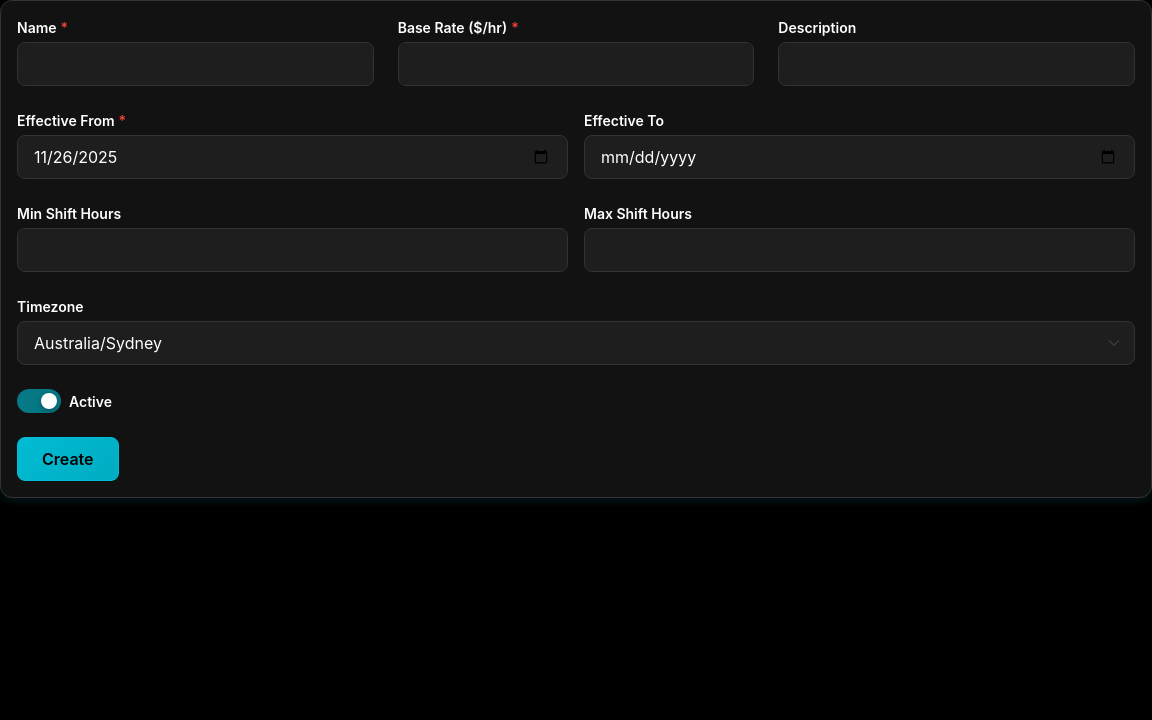
Test case: PayGuideForm › submits creation payload and surfaces success messaging
Type "New Guide" into the field labelled "Name*" at {"x": 195, "y": 64}, box [17,42,374,86]
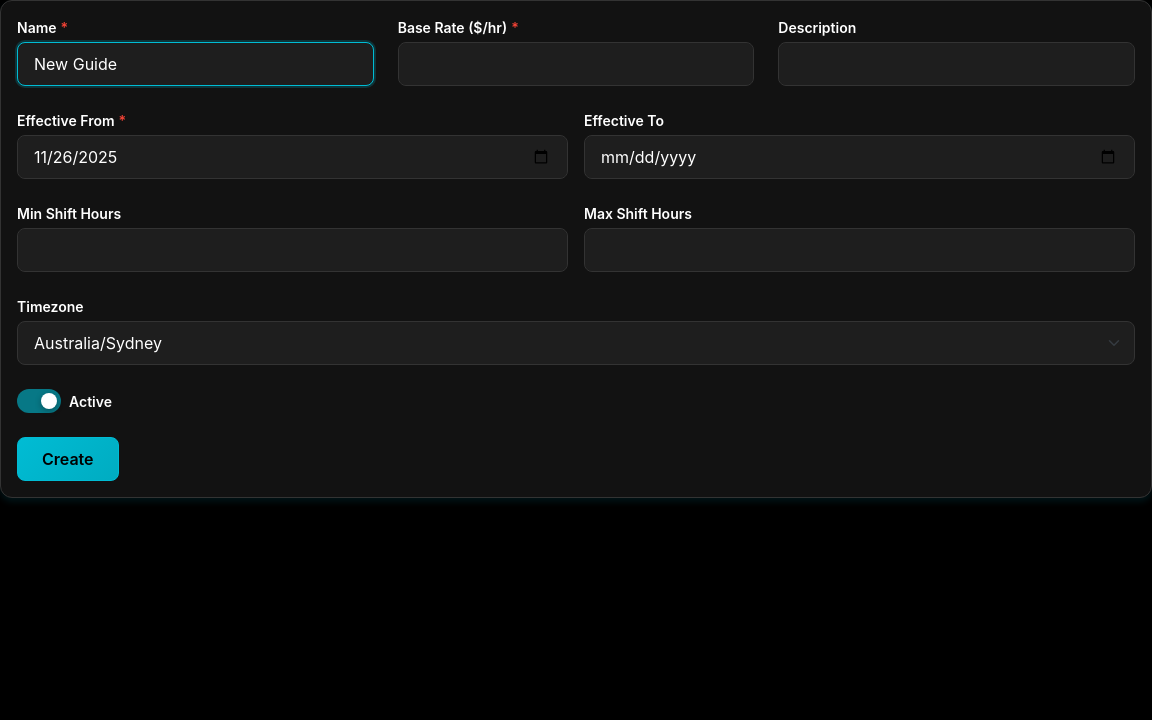
Type "31" into the number field labelled "Base Rate ($/hr)*" at {"x": 576, "y": 64}, box [398,42,754,86]
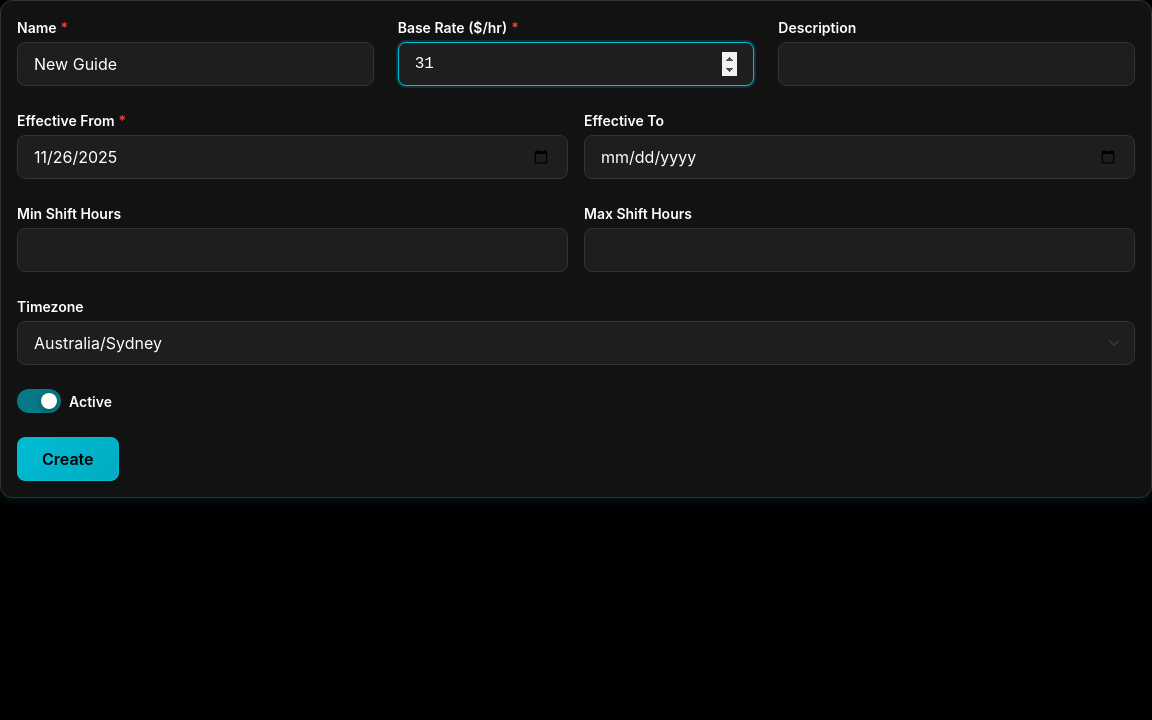
Type "Award description" into the field labelled "Description" at {"x": 957, "y": 64}, box [778,42,1135,86]
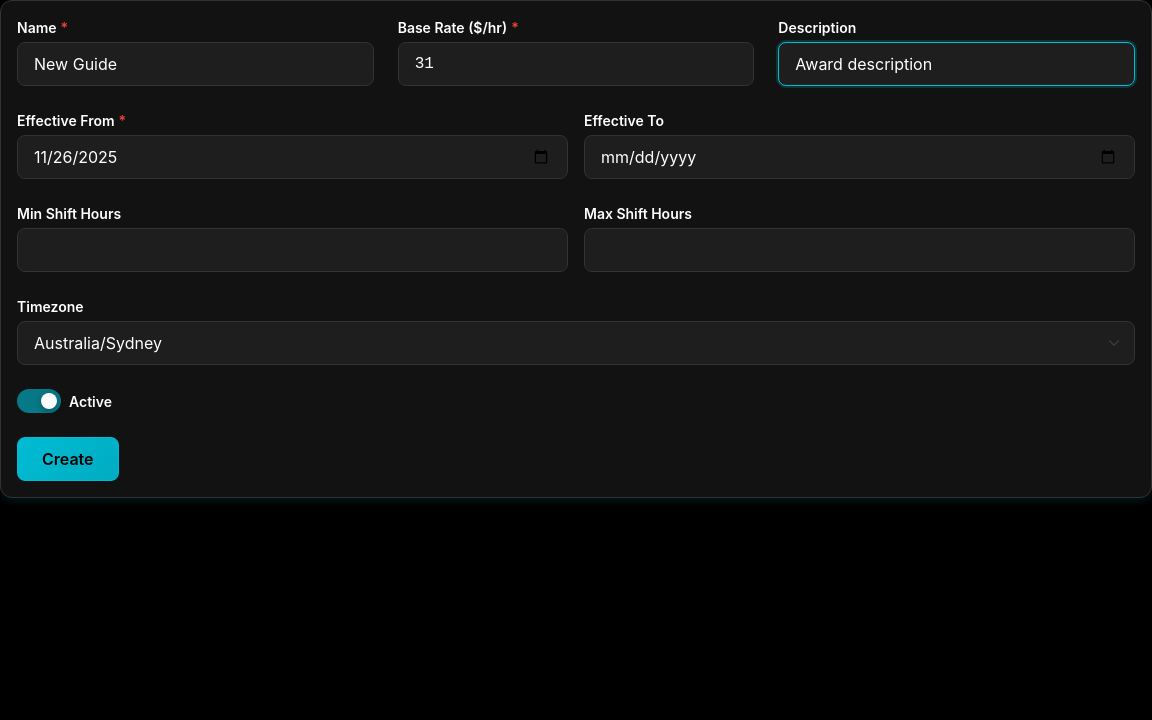
Click the button "Create" at {"x": 68, "y": 459}, box [17,437,118,481]
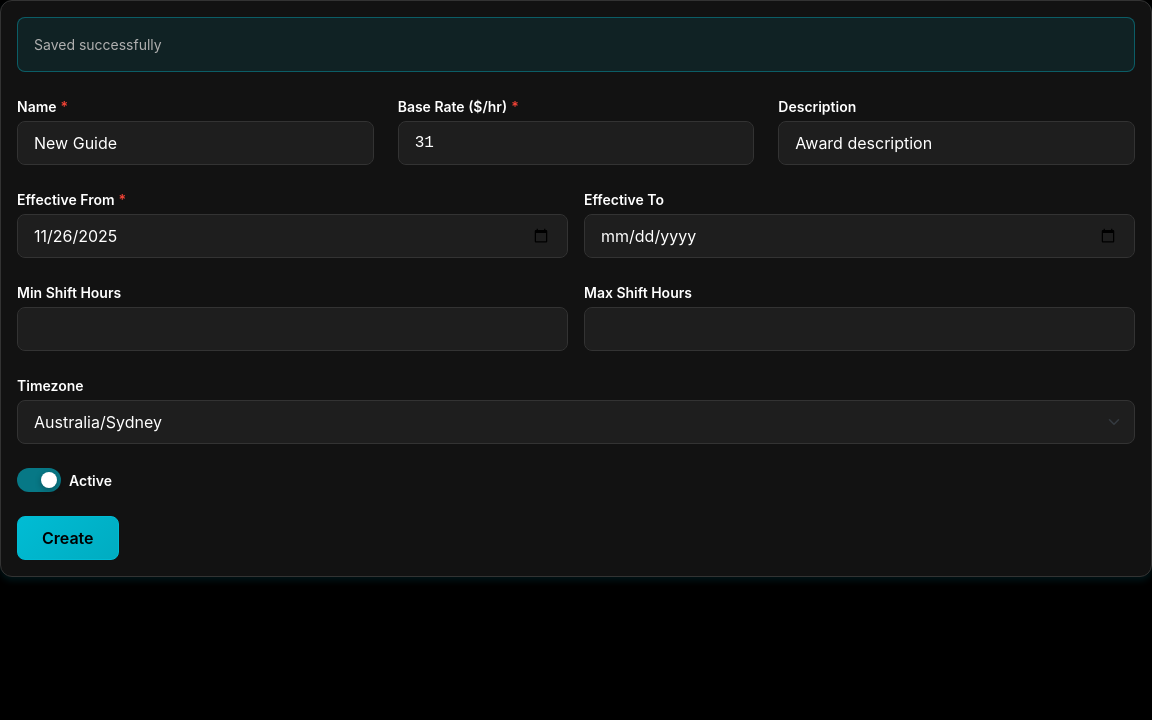
Result: the text "Saved successfully" is shown at [34,34,162,55]
